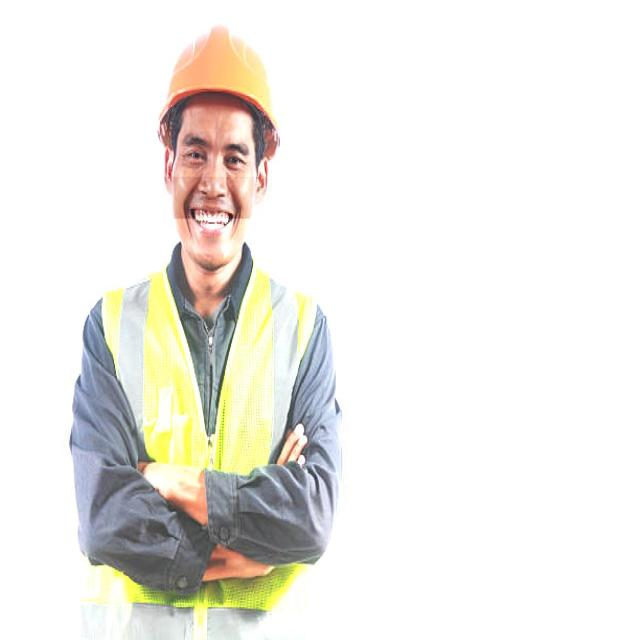Helmet: (126, 4, 304, 178)
Safety Vest: (72, 218, 341, 640)
